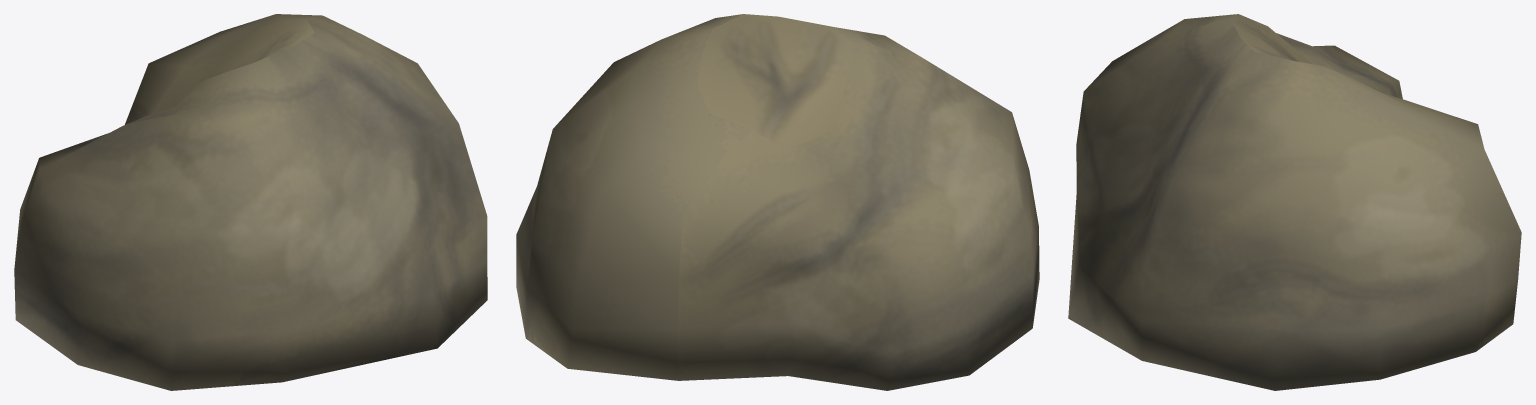
Rendered from rock1.fbx.
3 renders of one model, left to right at view 1: azimuth 30°, elevation 25°; view 2: azimuth 150°, elevation 25°; view 3: azimuth 270°, elevation 25°, orthographic. The views are drawn at different scales.
Parts seen in each view (by area): view 1: rock; view 2: rock; view 3: rock.
Boxes of the visible parts, <box> form: rock: <box>14,14,487,390</box>; rock: <box>516,14,1039,390</box>; rock: <box>1068,14,1521,390</box>.
Bounding box in the file's own units: 225 × 126 × 204.
